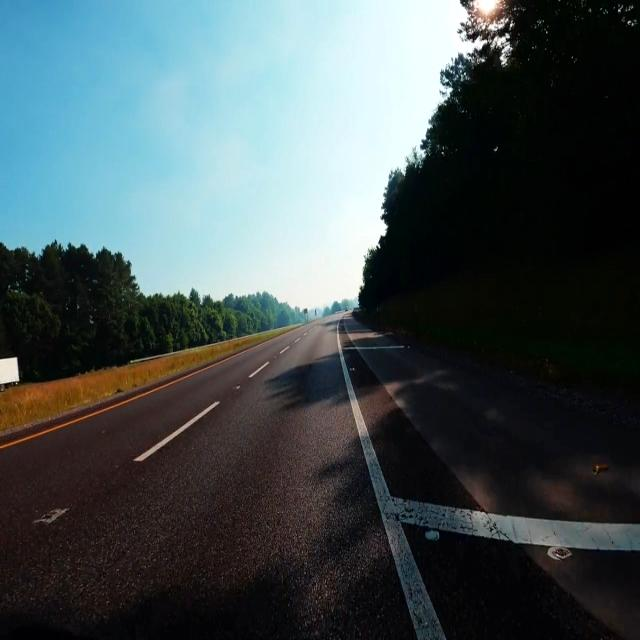road: (0, 317, 415, 637), (344, 350, 640, 521), (404, 524, 640, 637)
